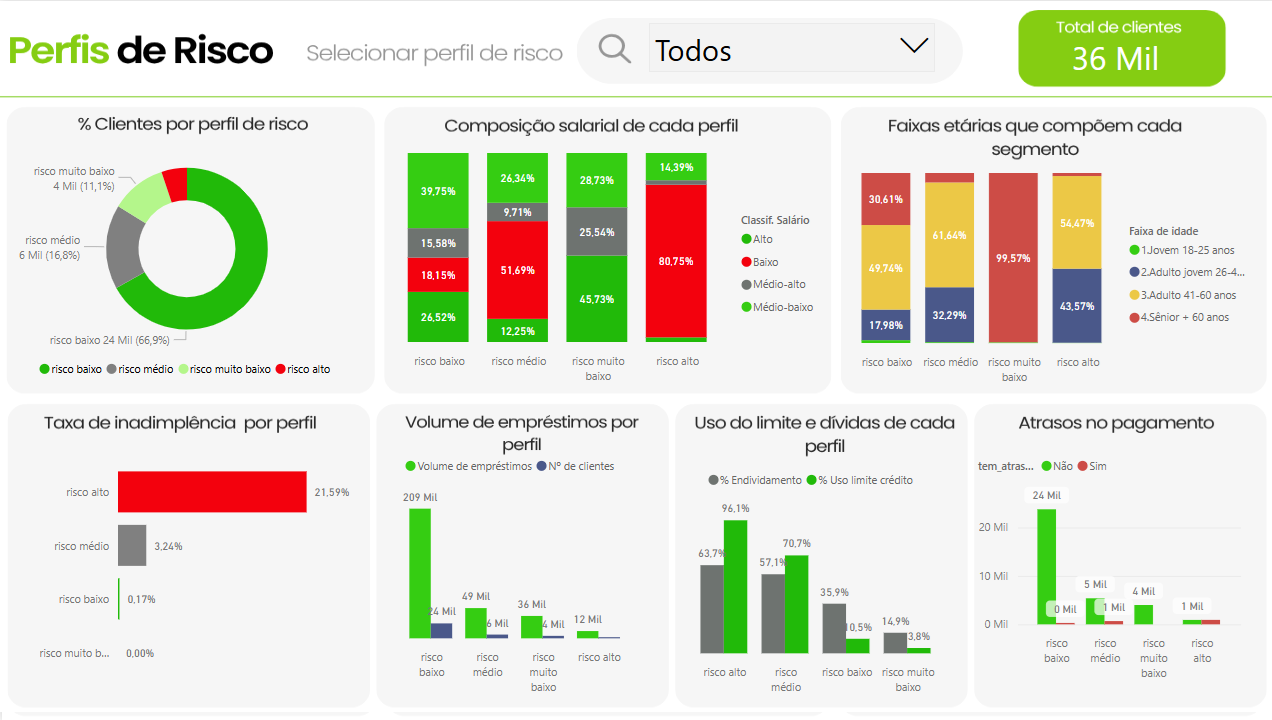

What the dashboard file says about the page in this screenshot:
{"tool":"powerbi","page":{"name":"Perfis de risco","canvas":[1280,720],"ordinal":1},"visuals":[{"type":"hundredPercentStackedColumnChart","title":"Faixas etárias que compõem cada perfil","fields":{"Series":["base_analise.faixa_etaria"],"Y":["CountNonNull(base_analise.id_usuario)"],"Category":["score_clientes.perfil_risco_final"]},"box":[822.5,157.5,442.5,233.8],"z":0},{"type":"donutChart","title":"Clientes por perfil de risco","fields":{"Category":["score_clientes.perfil_risco_final"],"Y":["CountNonNull(score_clientes.id_usuario)"]},"box":[0,135.7,402.9,250],"z":1000},{"type":"hundredPercentStackedColumnChart","title":"Nível salarial de cada perfil","fields":{"Category":["score_clientes.perfil_risco_final"],"Y":["CountNonNull(base_analise.id_usuario)"],"Series":["base_analise.classif_salario"]},"box":[360,137.5,475,252.5],"z":2000},{"type":"clusteredBarChart","title":"Taxa de inadimplência por perfil de risco","fields":{"Category":["score_clientes.perfil_risco_final"],"Y":["base_analise.flag_inadimplencia dividido por Contagem de id_usuario"]},"box":[21.2,436.2,338.8,263.8],"z":3000},{"type":"clusteredColumnChart","title":"Uso limite e endividamento ","fields":{"Category":["score_clientes.perfil_risco_final"],"Y":["Median(base_analise.indice_endividamento)","Median(base_analise.percentual_uso_limite_credito)"]},"box":[663.8,460,298.8,241.2],"z":4000},{"type":"clusteredColumnChart","title":"Nº médio de empréstimos","fields":{"Category":["score_clientes.perfil_risco_final"],"Y":["Sum(base_analise.total_emprestimos)","CountNonNull(score_clientes.id_usuario)"]},"box":[375.7,445.7,274.3,255.7],"z":5000},{"type":"clusteredColumnChart","title":"Atrasos no pagamento","fields":{"Category":["score_clientes.perfil_risco_final"],"Series":["base_analise.tem_atrasos"],"Y":["Divide(CountNonNull(base_analise.id_usuario), ScopedEval(CountNonNull(base_analise.id_usuario), []))"]},"box":[978,437,302,264],"z":6000},{"type":"card","title":"Score de Risco","fields":{"Values":["CountNonNull(base_analise.id_usuario)"]},"box":[997.5,32.5,237.5,48.8],"z":7000},{"type":"slicer","fields":{"Values":["score_clientes.perfil_risco_final"]},"box":[640,12,306,81],"z":8000}]}

Visuals, with their boxes in screenshot pixels (x1, y1, x2, y2), scaled from the page's 1280x720 canvas onto the 1272x720 screenshot:
"Faixas etárias que compõem cada perfil" hundredPercentStackedColumnChart: (x1=817, y1=158, x2=1257, y2=391)
"Clientes por perfil de risco" donutChart: (x1=0, y1=136, x2=400, y2=386)
"Nível salarial de cada perfil" hundredPercentStackedColumnChart: (x1=358, y1=138, x2=830, y2=390)
"Taxa de inadimplência por perfil de risco" clusteredBarChart: (x1=21, y1=436, x2=358, y2=700)
"Uso limite e endividamento " clusteredColumnChart: (x1=660, y1=460, x2=957, y2=701)
"Nº médio de empréstimos" clusteredColumnChart: (x1=373, y1=446, x2=646, y2=701)
"Atrasos no pagamento" clusteredColumnChart: (x1=972, y1=437, x2=1271, y2=701)
"Score de Risco" card: (x1=991, y1=32, x2=1227, y2=81)
slicer - score_clientes.perfil_risco_final: (x1=636, y1=12, x2=940, y2=93)
